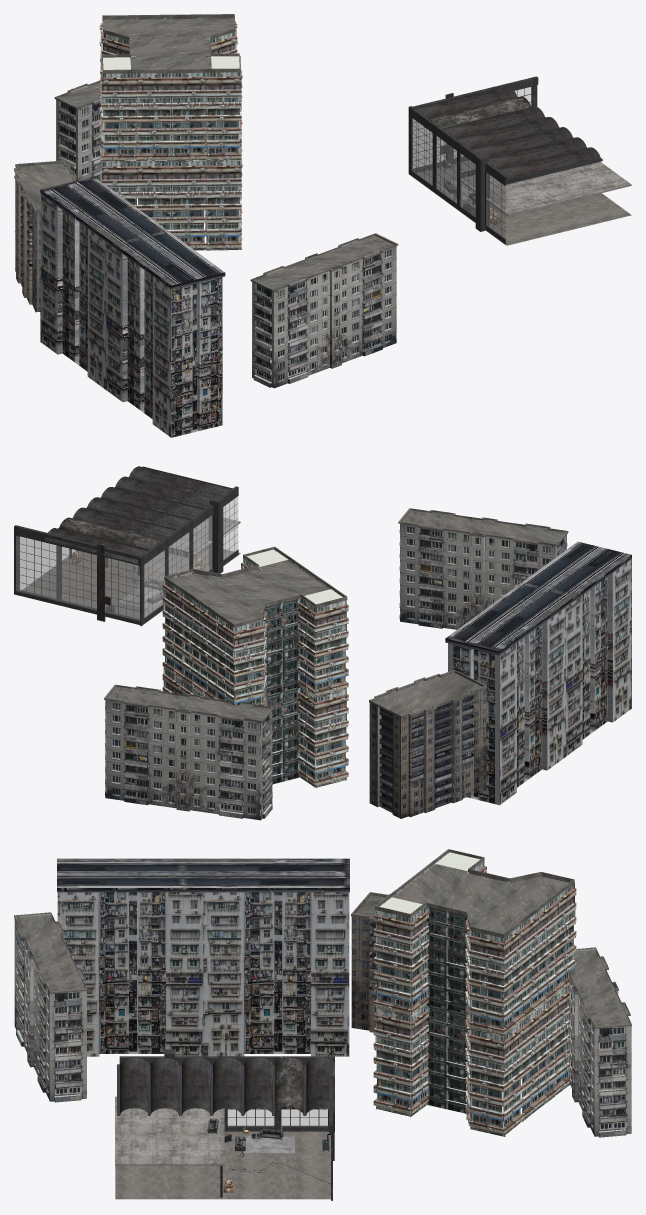
File: interior_7.glb
3 renders of one model, top to bottom at view 1: azimuth 30°, elevation 25°; view 2: azimuth 150°, elevation 25°; view 3: azimuth 270°, elevation 25°, orthographic. The views are drawn at different scales.
Parts seen in each view (by area): view 1: Cube.020, Cube.019, Cube.022, Plane, Cube.021, Plane.004, Cube.010, Cube.009, Cube, Cylinder.006, Cylinder.001, Cylinder.002 (+6 smaller); view 2: Cube.020, Cube.019, Cube.009, Cube.021, Cube.022, Plane.004, Plane, Cube.007, Cube, Cylinder.002, Cylinder.006, Cylinder.003 (+8 smaller); view 3: Cube.020, Cube.019, Cube.022, Cube.009, Plane, Cube.010, Cube.021, Cube, Plane.004, Cylinder.005, Cylinder.004, Cylinder.001 (+5 smaller).
Boxes of the visible parts, x1,y1,x2,y2 form: Cube.020: (40,176,225,437); Cube.019: (99,14,242,250); Cube.022: (250,233,398,388); Plane: (410,160,631,245); Cube.021: (14,160,76,312); Plane.004: (412,87,531,238); Cube.010: (460,161,631,215); Cube.009: (54,80,100,180); Cube: (408,106,507,244); Cylinder.006: (499,147,600,180); Cylinder.001: (429,96,530,128); Cylinder.002: (443,106,544,138); Cube.020: (445,541,631,805); Cube.019: (162,546,348,787); Cube.009: (104,684,273,820); Cube.021: (369,669,486,818); Cube.022: (398,508,568,629); Plane.004: (16,496,238,620); Plane: (22,547,240,624); Cube.007: (14,525,141,624); Cube: (138,486,238,626); Cylinder.002: (73,507,175,539); Cylinder.006: (129,466,231,497); Cylinder.003: (87,497,189,529); Cube.020: (57,858,349,1056); Cube.019: (373,849,576,1136); Cube.022: (14,912,87,1102); Cube.009: (568,947,631,1137); Plane: (115,1131,330,1199); Cube.010: (115,1096,224,1165); Cube.021: (351,892,390,1032); Cube: (119,1056,334,1131); Plane.004: (227,1108,327,1127); Cylinder.005: (150,1057,179,1114); Cylinder.004: (182,1057,210,1115); Cylinder.001: (275,1057,303,1114).
Size of the model in its own units: 26.27 by 10.95 by 25.75.
24 materials, 21 textured.
